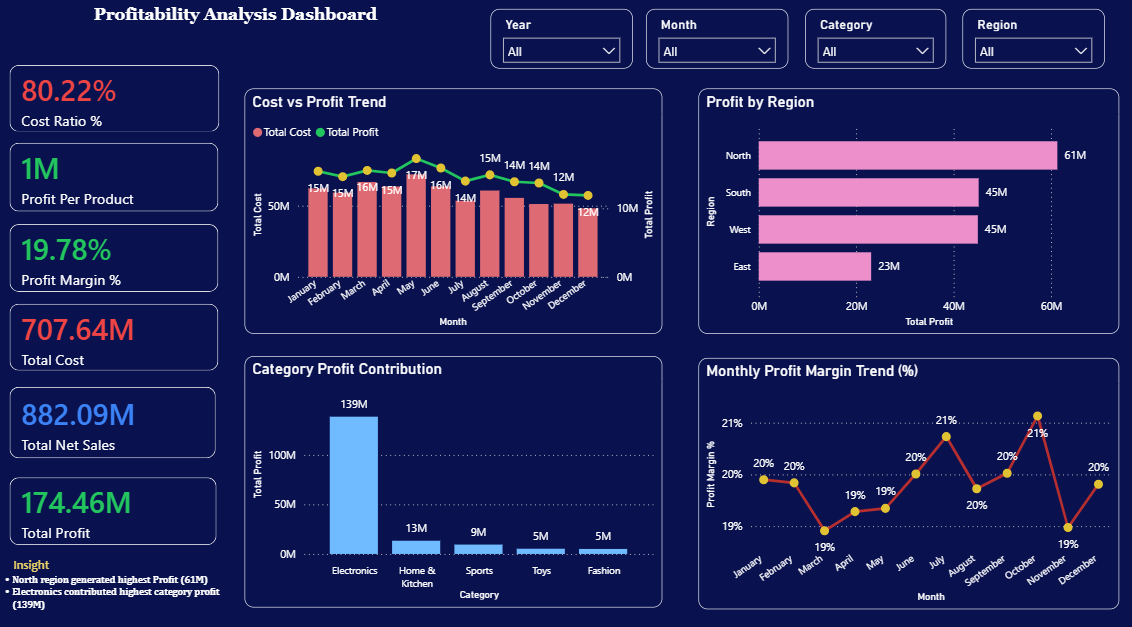

Layout of this report page (visuals, bound fields, positions):
{"tool":"powerbi","page":{"name":"Profitability Analysis Dashboard","canvas":[1280,720],"ordinal":0},"visuals":[{"type":"textbox","box":[10,11.4,515.7,54.3],"z":0},{"type":"cardVisual","fields":{"Data":["All measures.Cost Ratio %"]},"box":[0,66.7,268.3,110],"z":1000,"group":"g1"},{"type":"cardVisual","fields":{"Data":["All measures.Total Profit"]},"box":[0,521.7,265,111.7],"z":2000,"group":"g1"},{"type":"cardVisual","fields":{"Data":["All measures.Profit Per Product"]},"box":[0,153.4,267.5,112.5],"z":3000,"group":"g1"},{"type":"cardVisual","fields":{"Data":["All measures.Profit Margin %"]},"box":[0,242.5,267.5,111.7],"z":4000,"group":"g1"},{"type":"cardVisual","fields":{"Data":["All measures.Total Cost"]},"box":[0,330.9,267.5,110.8],"z":5000,"group":"g1"},{"type":"cardVisual","fields":{"Data":["All measures.Total Net Sales"]},"box":[0,421.7,264.2,115],"z":6000,"group":"g1"},{"type":"slicer","fields":{"Values":["Date Table.Date.Variation.Date Hierarchy.Month"]},"box":[722.9,22.9,157.1,65.7],"z":7000},{"type":"slicer","fields":{"Values":["Date Table.Date.Variation.Date Hierarchy.Year"]},"box":[550,22.9,157.1,65.7],"z":8000},{"type":"slicer","fields":{"Values":["Products.Category"]},"box":[898.6,22.9,155.7,65.7],"z":9000},{"type":"slicer","fields":{"Values":["Customers.Region"]},"box":[1071.4,22.9,157.1,65.7],"z":10000},{"type":"lineStackedColumnComboChart","title":"Cost vs Profit Trend","fields":{"Category":["Date Table.Date.Variation.Date Hierarchy.Month"],"Y":["All measures.Total Cost"],"Y2":["All measures.Total Profit"]},"box":[278.1,110.6,461.9,271.6],"z":11000},{"type":"clusteredBarChart","title":"Profit by Region","fields":{"Category":["Customers.Region"],"Y":["All measures.Total Profit"]},"box":[780.7,110.6,465.2,271.6],"z":12000},{"type":"columnChart","title":"Category Profit Contribution","fields":{"Category":["Products.Category"],"Y":["All measures.Total Profit"]},"box":[278.1,405,461.9,278.1],"z":13000},{"type":"lineChart","title":"Monthly Profit Margin Trend (%)","fields":{"Category":["Date Table.Date.Variation.Date Hierarchy.Month"],"Y":["All measures.Profit Margin %"]},"box":[780.7,408.3,465.2,278.1],"z":14000},{"type":"group","id":"g1","title":"Group 1","box":[0,66.7,268.3,566.7],"z":14001},{"type":"textbox","box":[0,621.2,266.2,95],"z":14002}]}

Visuals, with their boxes in screenshot pixels (x1, y1, x2, y2), scaled from the page's 1280x720 canvas onto the 1132x627 screenshot:
textbox: left=9, top=10, right=465, bottom=57
cardVisual - All measures.Cost Ratio %: left=0, top=58, right=237, bottom=154
cardVisual - All measures.Total Profit: left=0, top=454, right=234, bottom=552
cardVisual - All measures.Profit Per Product: left=0, top=134, right=237, bottom=232
cardVisual - All measures.Profit Margin %: left=0, top=211, right=237, bottom=308
cardVisual - All measures.Total Cost: left=0, top=288, right=237, bottom=385
cardVisual - All measures.Total Net Sales: left=0, top=367, right=234, bottom=467
slicer - Date Table.Date.Variation.Date Hierarchy.Month: left=639, top=20, right=778, bottom=77
slicer - Date Table.Date.Variation.Date Hierarchy.Year: left=486, top=20, right=625, bottom=77
slicer - Products.Category: left=795, top=20, right=932, bottom=77
slicer - Customers.Region: left=948, top=20, right=1086, bottom=77
"Cost vs Profit Trend" lineStackedColumnComboChart: left=246, top=96, right=654, bottom=333
"Profit by Region" clusteredBarChart: left=690, top=96, right=1102, bottom=333
"Category Profit Contribution" columnChart: left=246, top=353, right=654, bottom=595
"Monthly Profit Margin Trend (%)" lineChart: left=690, top=356, right=1102, bottom=598
"Group 1" group: left=0, top=58, right=237, bottom=552
textbox: left=0, top=541, right=235, bottom=624
